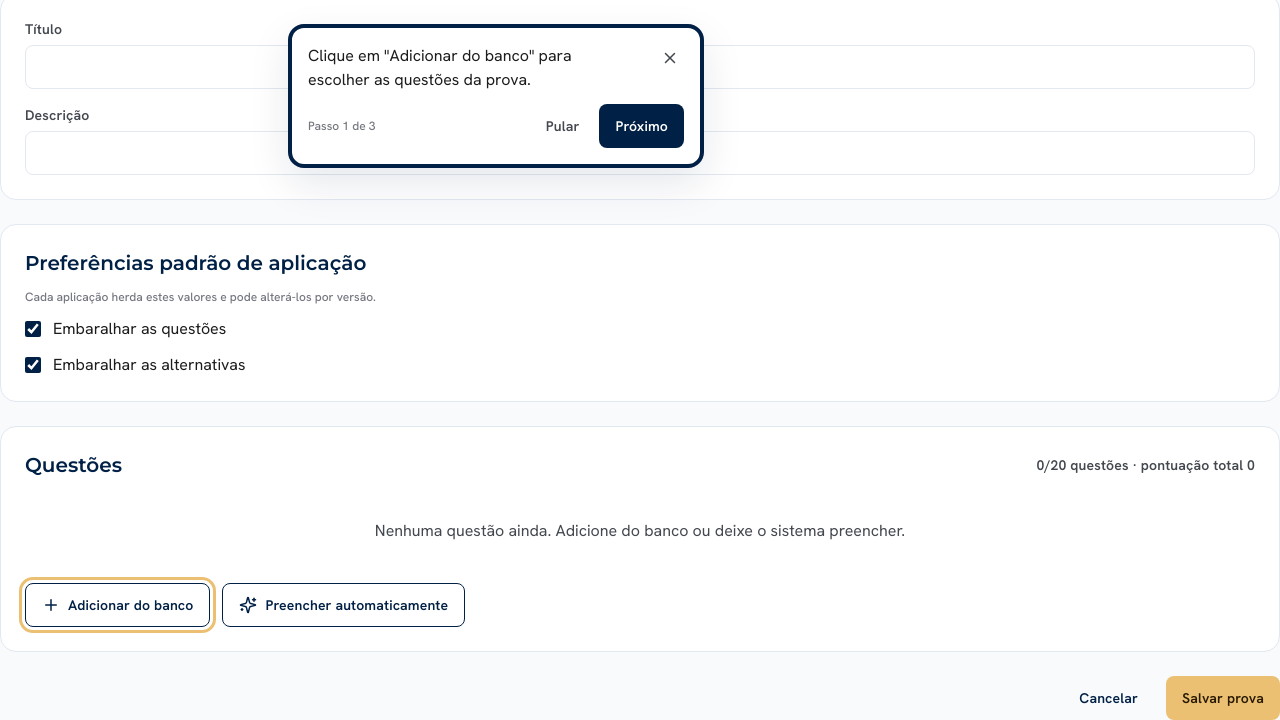
Test: ExamFormPage › keeps a decimal score while it is being typed
This screenshot has width=1280, height=720.
(page scrolled)
Click the button "Adicionar do banco". click: (118, 605)
box: x1=25 y1=583 x2=210 y2=627
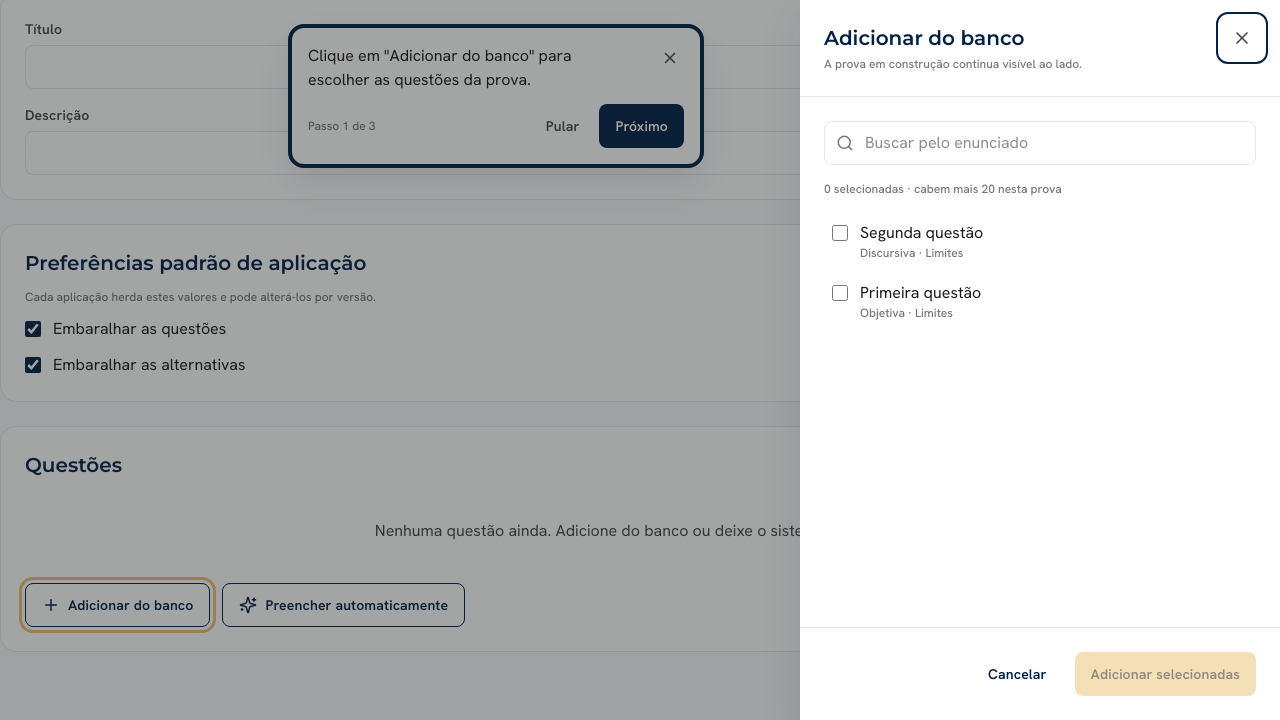
Click the checkbox labelled "Segunda questão Discursiva · Limites". click: (840, 233)
box: x1=832 y1=225 x2=848 y2=241
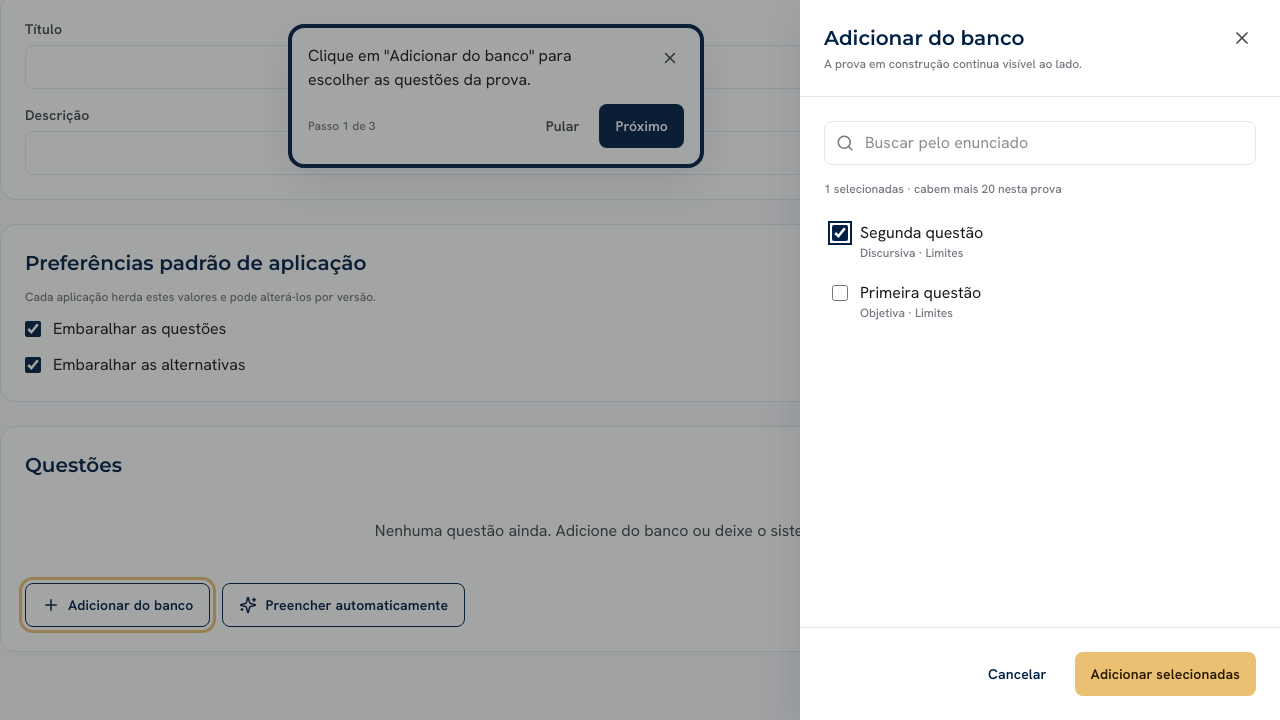
Click the button "Adicionar selecionadas". click: (1165, 674)
box: x1=1075 y1=652 x2=1256 y2=696
(page scrolled)
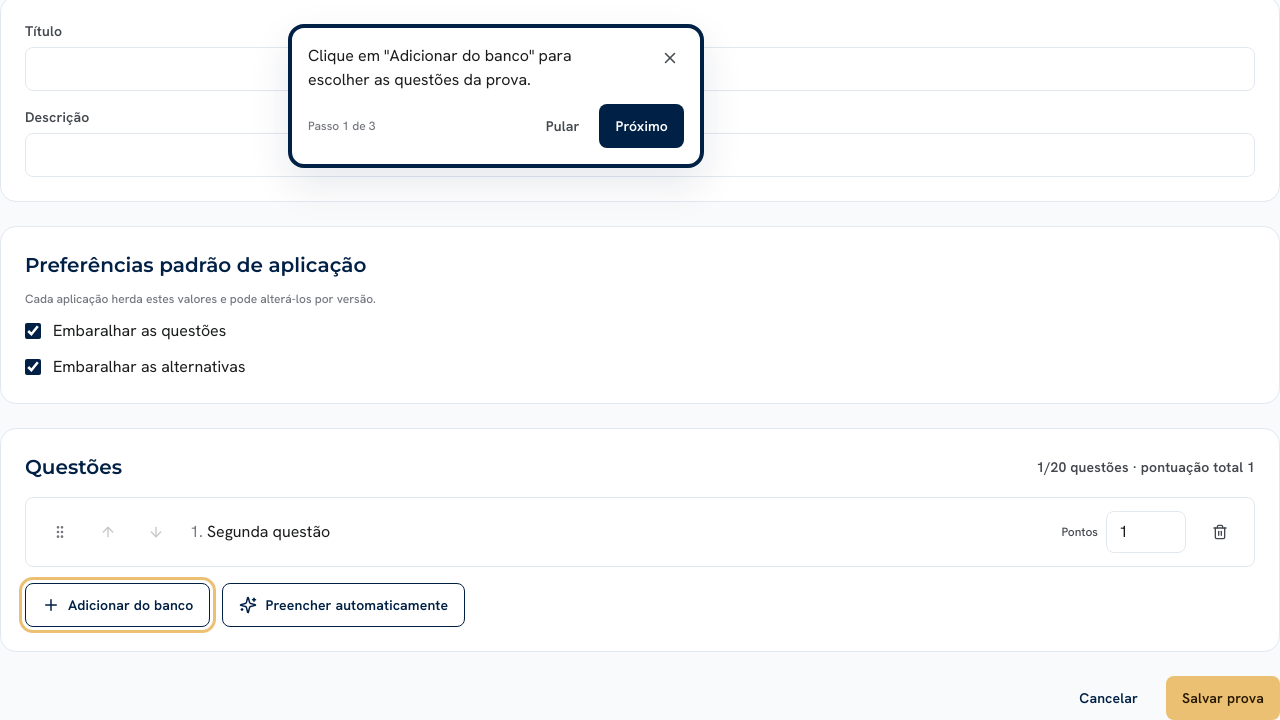
Result: the dialog is gone
Replace the text in the number field named "Pontuação da questão 1 de 1" with "2.5". click: (1146, 532)
box: x1=1106 y1=511 x2=1186 y2=553
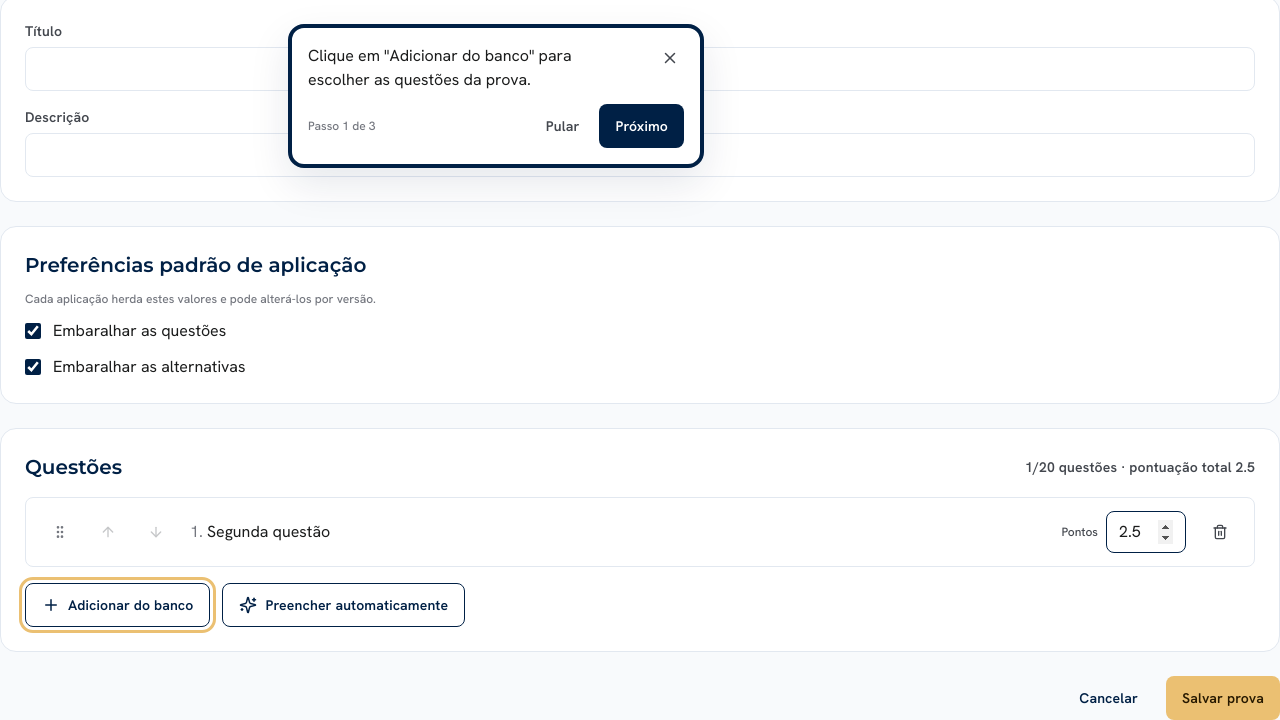
Result: the text "1/20 questões · pontuação total 2.5" is shown at x1=1025 y1=457 x2=1255 y2=477
